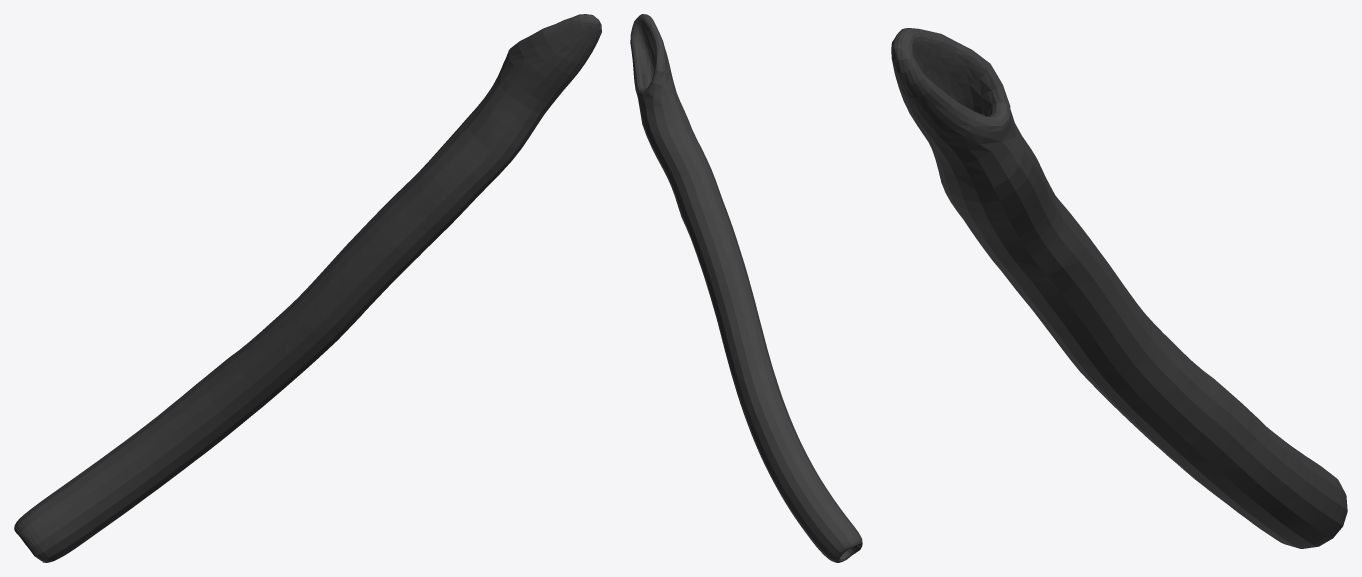
The model's file is CANAL_chorda_tympani_L.glb.
3 views of the same model, side by side, from view 1: azimuth 30°, elevation 25°; view 2: azimuth 150°, elevation 25°; view 3: azimuth 270°, elevation 25° (orthographic). The views are drawn at different scales.
Parts seen in each view (by area): view 1: CANAL_chorda_tympani_L; view 2: CANAL_chorda_tympani_L; view 3: CANAL_chorda_tympani_L.
Boxes of the visible parts, x1,y1,x2,y2 form: CANAL_chorda_tympani_L: (14,14,601,562); CANAL_chorda_tympani_L: (630,14,862,562); CANAL_chorda_tympani_L: (891,28,1347,548).
Bounding box in the file's own units: 1.03 × 1.2 × 0.6215.
1 material, 1 textured.
